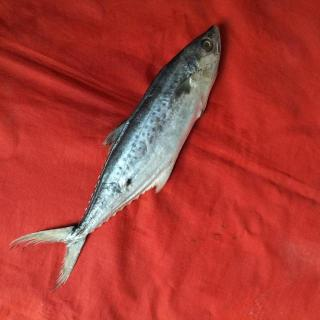Ikan: (33, 10, 233, 282)
